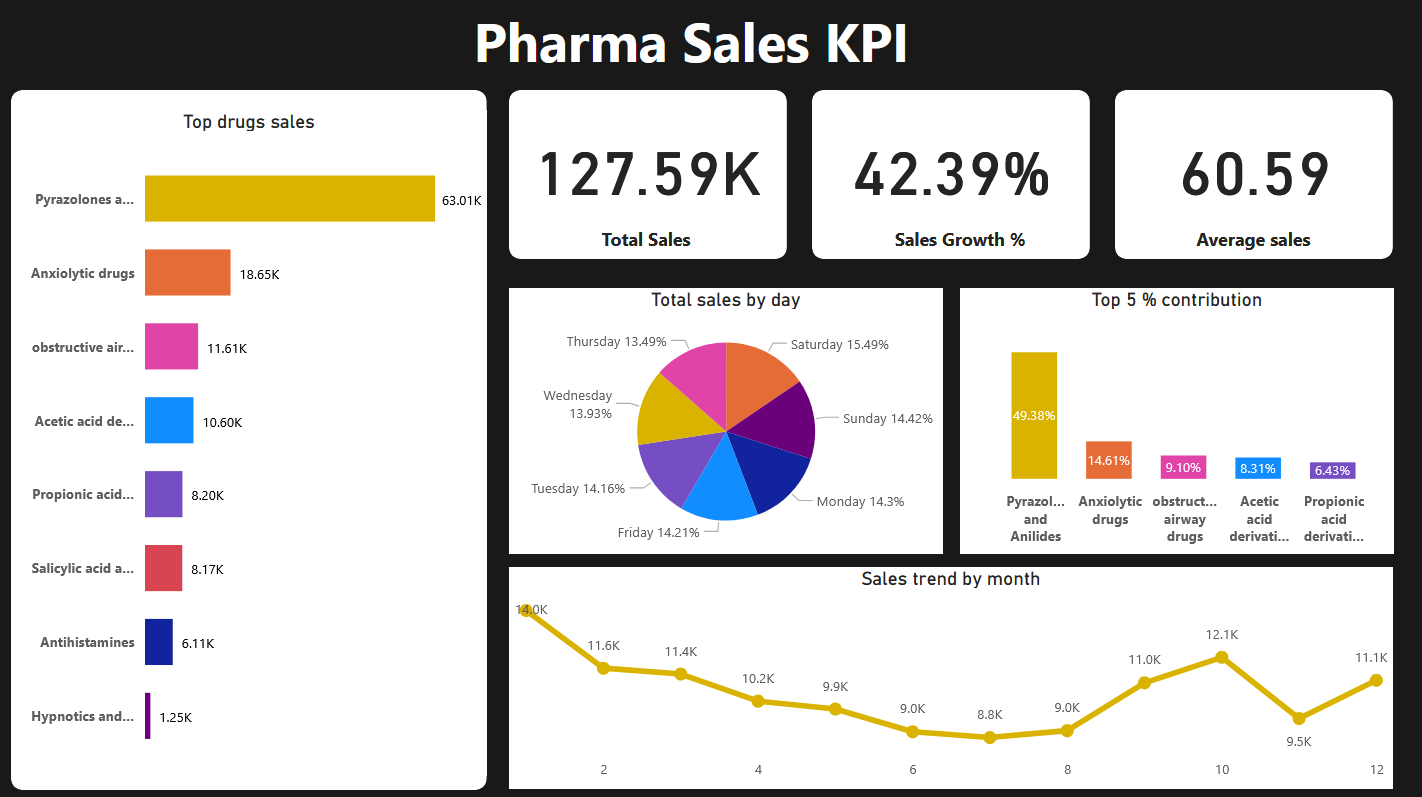

Layout of this report page (visuals, bound fields, positions):
{"tool":"powerbi","page":{"name":"Page 1","canvas":[1280,720],"ordinal":0},"visuals":[{"type":"textbox","box":[421,0,438.9,93.3],"z":0},{"type":"shape","box":[457.8,82.4,248.2,150.9],"z":1000},{"type":"shape","box":[727.9,82.4,248.2,150.9],"z":2000},{"type":"shape","box":[999,82.4,248.2,150.9],"z":3000},{"type":"shape","box":[12.9,82.4,425,382.3],"z":4000},{"type":"shape","box":[12.9,324.7,425,382.3],"z":5000},{"type":"shape","box":[457.8,508.4,789.5,198.6],"z":6000},{"type":"shape","box":[860,259.2,387.3,237.3],"z":7000},{"type":"shape","box":[457.8,259.2,387.3,237.3],"z":8000},{"type":"textbox","box":[535.2,199.6,93.3,33.8],"z":9000},{"type":"card","fields":{"Values":["Sheet1.Total Sales"]},"box":[465.7,100.3,231.4,99.3],"z":10000},{"type":"textbox","box":[789.5,199.6,141,33.8],"z":11000},{"type":"card","fields":{"Values":["Sheet1.Sales Growth %"]},"box":[739.8,100.3,226.4,99.3],"z":12000},{"type":"card","fields":{"Values":["Avg(Sheet1.total_sales)"]},"box":[1009.9,100.3,226.4,99.3],"z":13000},{"type":"textbox","box":[1034.7,199.6,175.8,33.8],"z":14000},{"type":"barChart","title":"Top drugs sales","fields":{"Category":["Categories.Category"],"Y":["Categories.Category Sales"],"Series":["Categories.Category"]},"box":[12.9,100.3,425,594.8],"z":14001},{"type":"columnChart","title":"Top 5 % contribution","fields":{"Y":["Categories.Category Contribution %"],"Category":["Categories.Category"],"Series":["Categories.Category"]},"box":[860,259.2,387.3,237.3],"z":14002},{"type":"lineChart","title":"Sales trend by month","fields":{"Category":["Sheet1.Month"],"Y":["Sum(Sheet1.total_sales)"]},"box":[457.8,508.4,789.5,198.6],"z":14003},{"type":"pieChart","title":"Total sales by day","fields":{"Category":["Sheet1.Weekday Name"],"Y":["Sheet1.Total Sales"]},"box":[457.8,259.2,387.3,237.3],"z":14004}]}

Visuals, with their boxes in screenshot pixels (x1, y1, x2, y2), scaled from the page's 1280x720 canvas onto the 1422x797 screenshot:
textbox: 468/0/955/103
shape: 509/91/784/258
shape: 809/91/1084/258
shape: 1110/91/1386/258
shape: 14/91/486/514
shape: 14/359/486/783
shape: 509/563/1386/783
shape: 955/287/1386/550
shape: 509/287/939/550
textbox: 595/221/698/258
card - Sheet1.Total Sales: 517/111/774/221
textbox: 877/221/1034/258
card - Sheet1.Sales Growth %: 822/111/1073/221
card - Avg(Sheet1.total_sales): 1122/111/1373/221
textbox: 1149/221/1345/258
"Top drugs sales" barChart: 14/111/486/769
"Top 5 % contribution" columnChart: 955/287/1386/550
"Sales trend by month" lineChart: 509/563/1386/783
"Total sales by day" pieChart: 509/287/939/550
